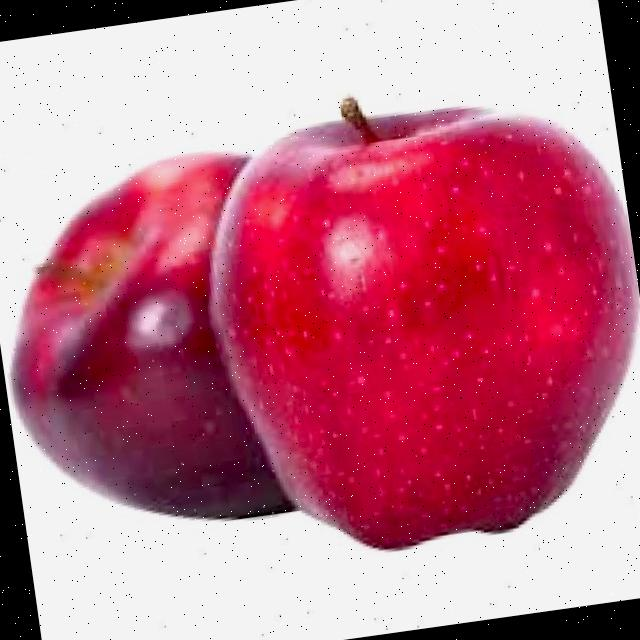apple: (177, 31, 640, 600), (0, 102, 354, 624)
